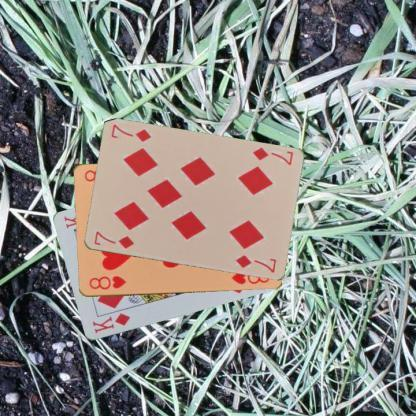7d: (91, 228, 135, 250), (250, 144, 294, 166)
8h: (86, 273, 127, 291)
Kd: (90, 310, 132, 334)
